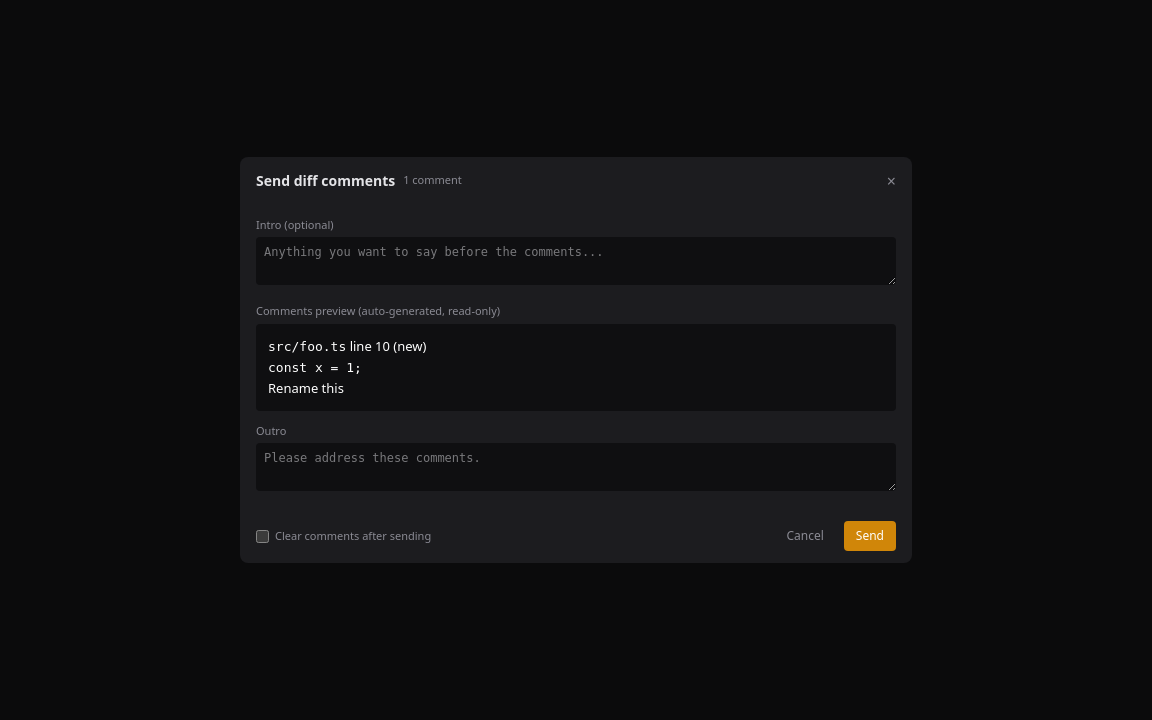
Test: SendCommentsDialog › shows an error on a network rejection
Click the button "Send". click: (870, 536)
box: [844, 521, 896, 551]
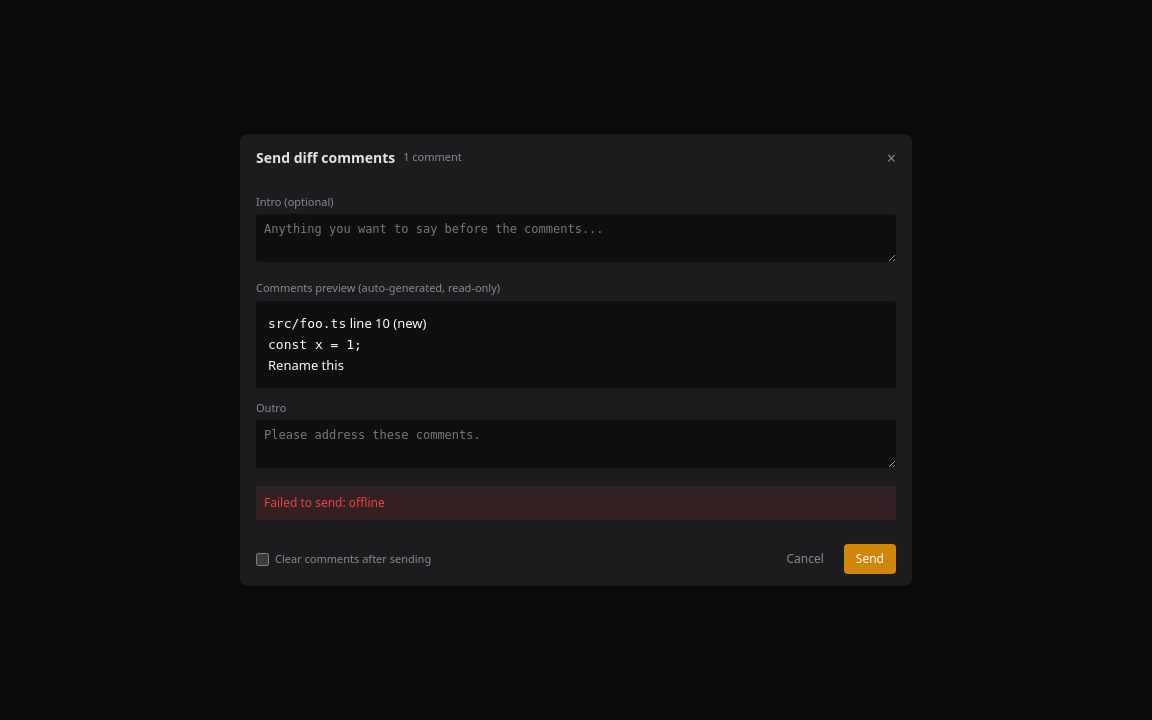
Result: the text "Failed to send: offline" is shown at [256, 486, 896, 520]
